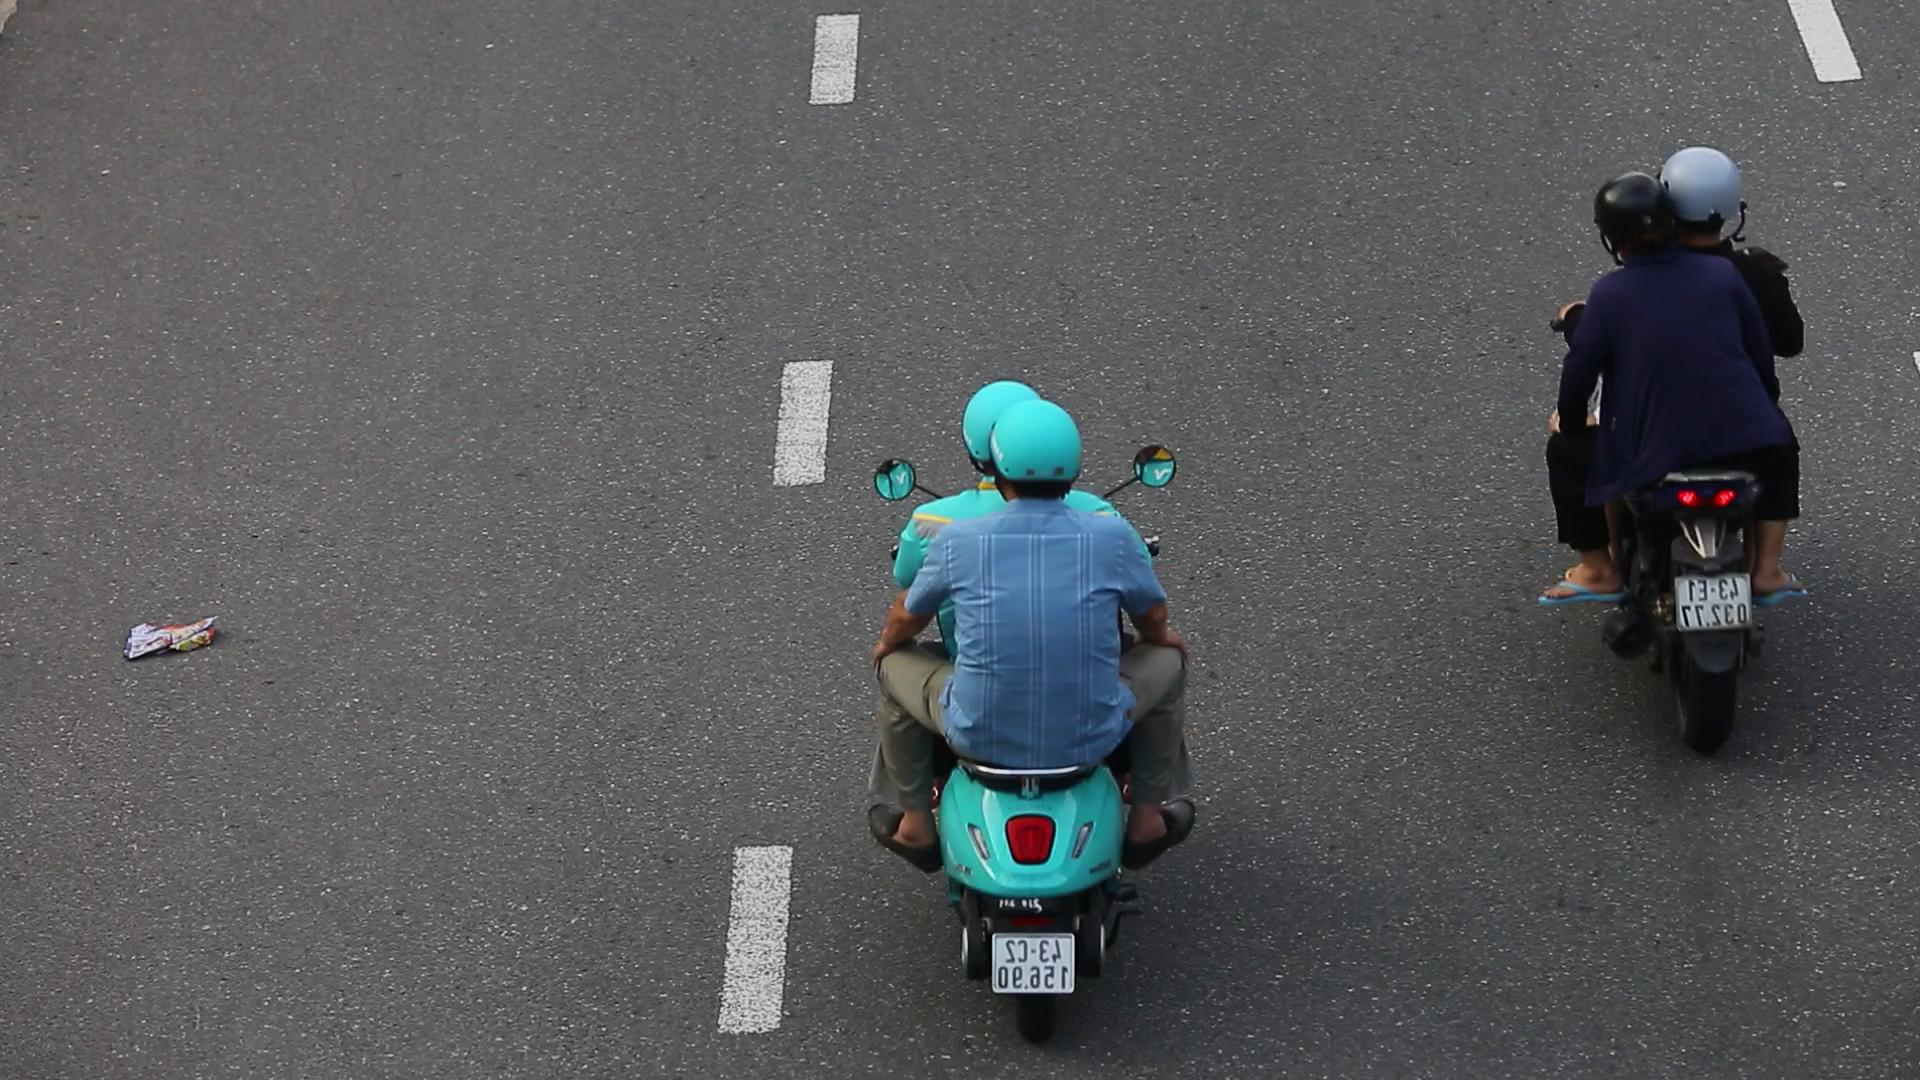motobike: (853, 367, 1196, 1062), (1530, 137, 1818, 760)
